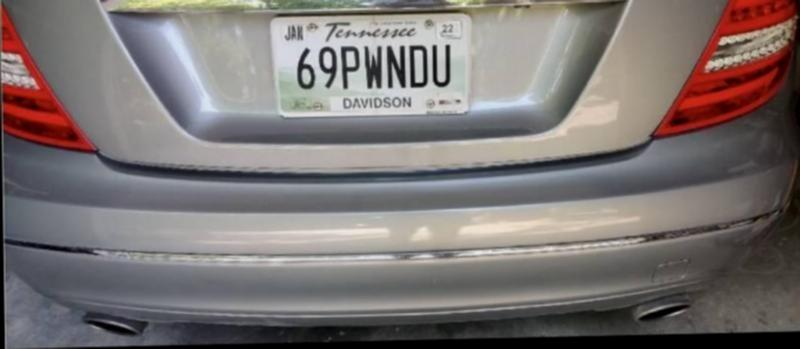License_Plate: (273, 13, 469, 118)
